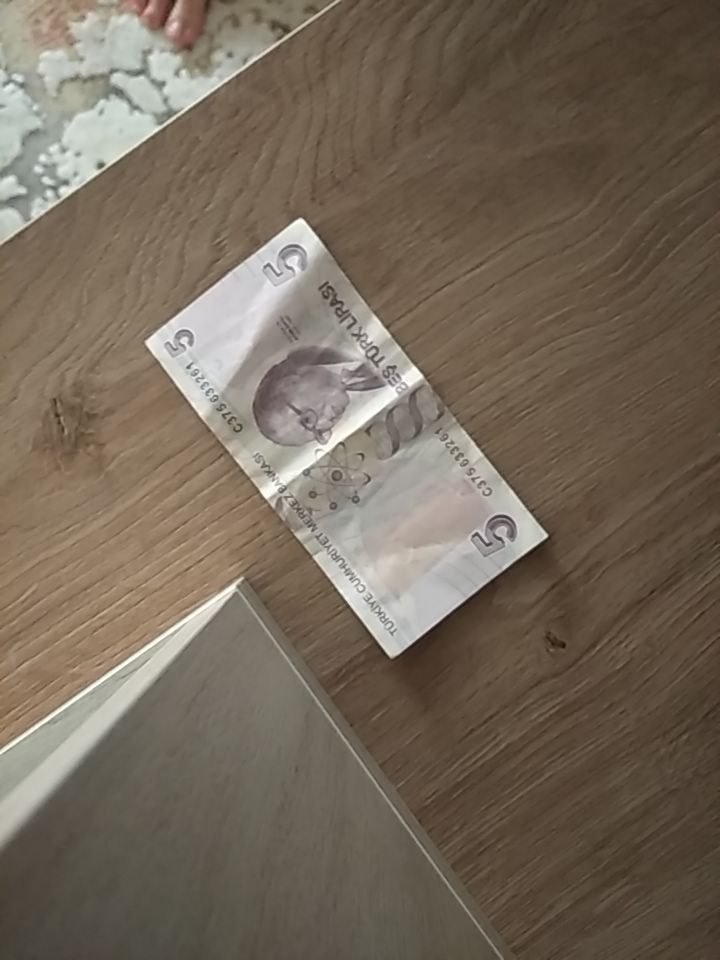5TL: (141, 215, 552, 663)
